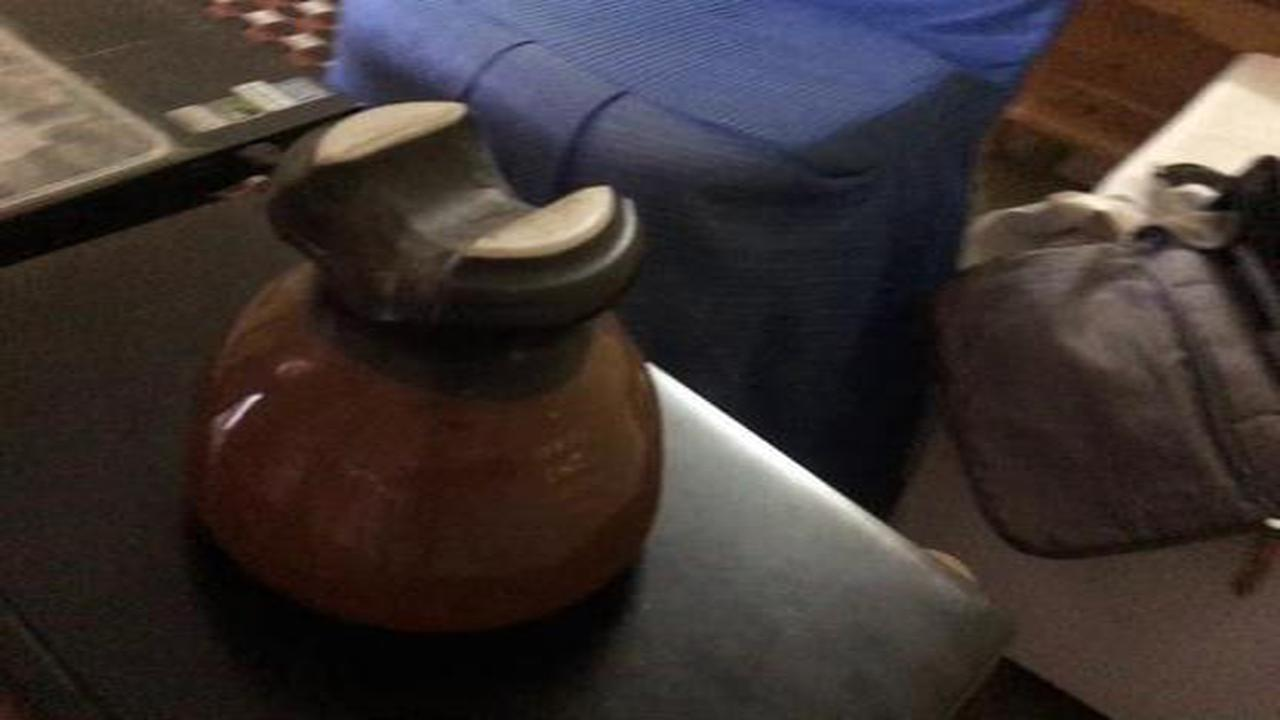insulator_pin: (179, 82, 693, 653)
